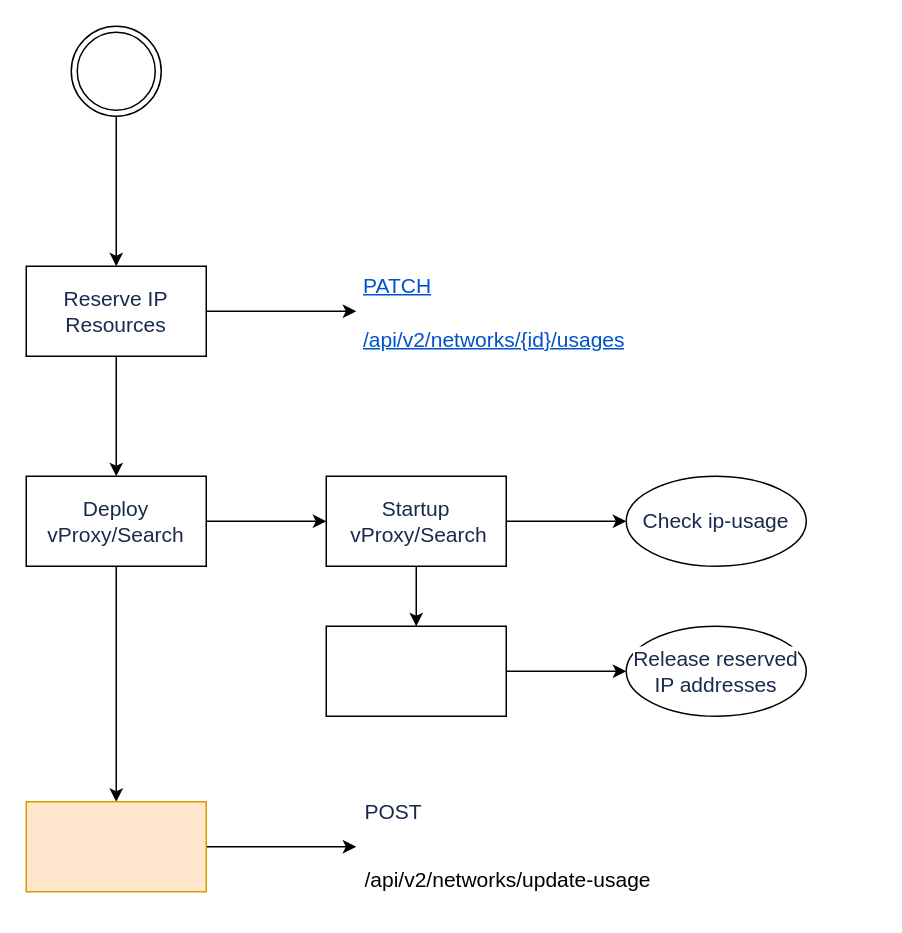
The diagram is 902 pixels wide and 933 high, and some of its shapes have lost their labels. Each missing label, with the centre of its shape:
Delete vProxy/Search: point 415,670
Update IP usage: point 115,846
